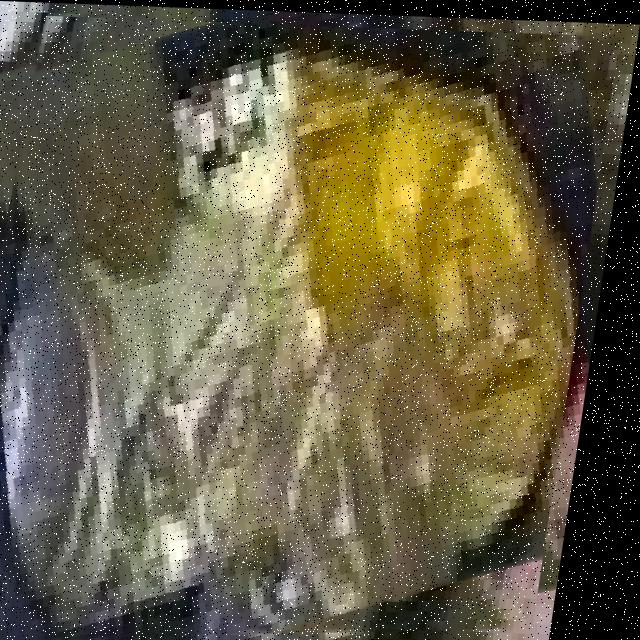can: (0, 20, 592, 639)
